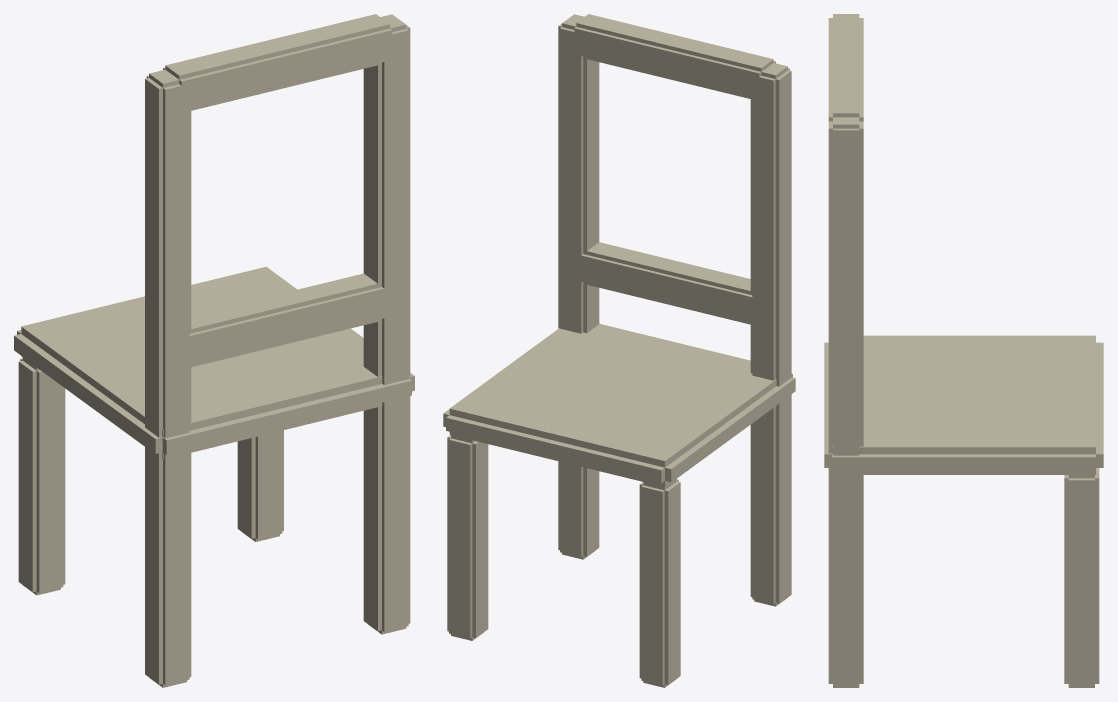
File: bone_chair_v0.glb
3 views of the same model, side by side, from view 1: azimuth 30°, elevation 25°; view 2: azimuth 150°, elevation 25°; view 3: azimuth 270°, elevation 25° (orthographic). The views are drawn at different scales.
Visible parts, largest first — view 1: bone_chair_v0; view 2: bone_chair_v0; view 3: bone_chair_v0.
Part boxes in pixels (x1=…): bone_chair_v0: x1=14, y1=14, x2=414, y2=687; bone_chair_v0: x1=443, y1=14, x2=795, y2=687; bone_chair_v0: x1=824, y1=14, x2=1103, y2=687.
Size of the model in its own units: 0.64 by 1.43 by 0.64.
